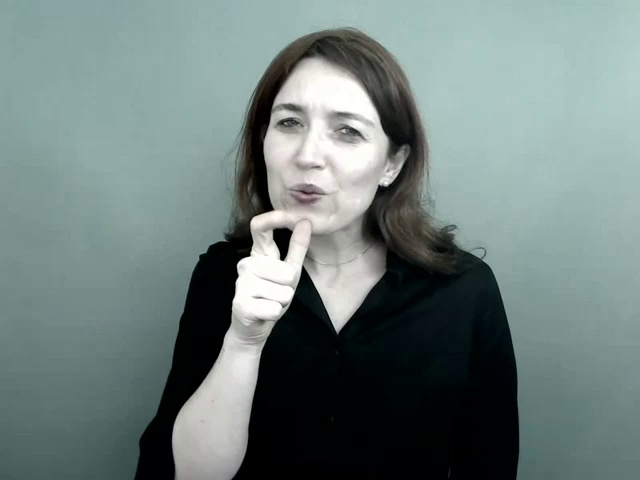who: (222, 205, 320, 335)
